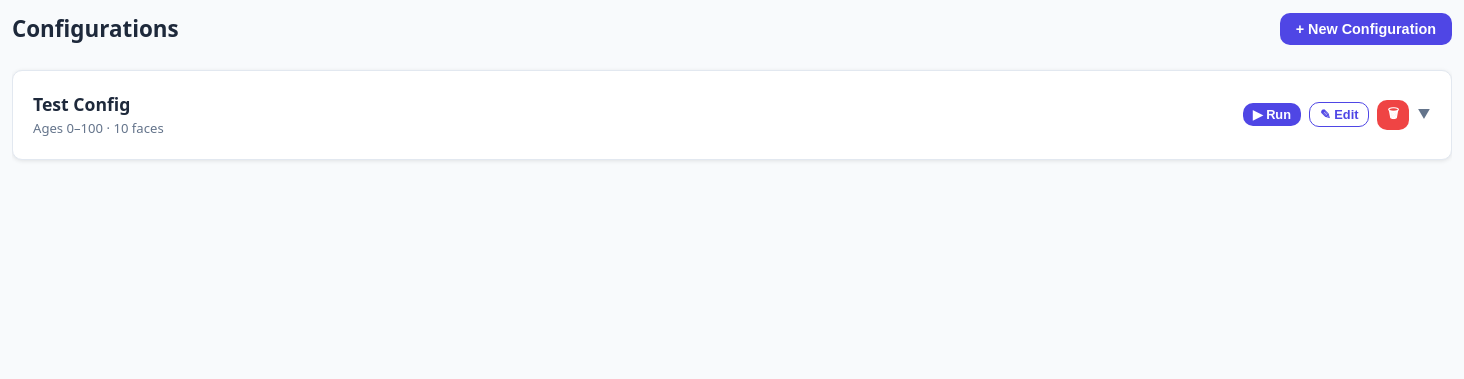
Test: ConfigList expand/collapse › shows image count in detail panel
Click the text "Test Config": click(82, 104) [33,92,130,116]
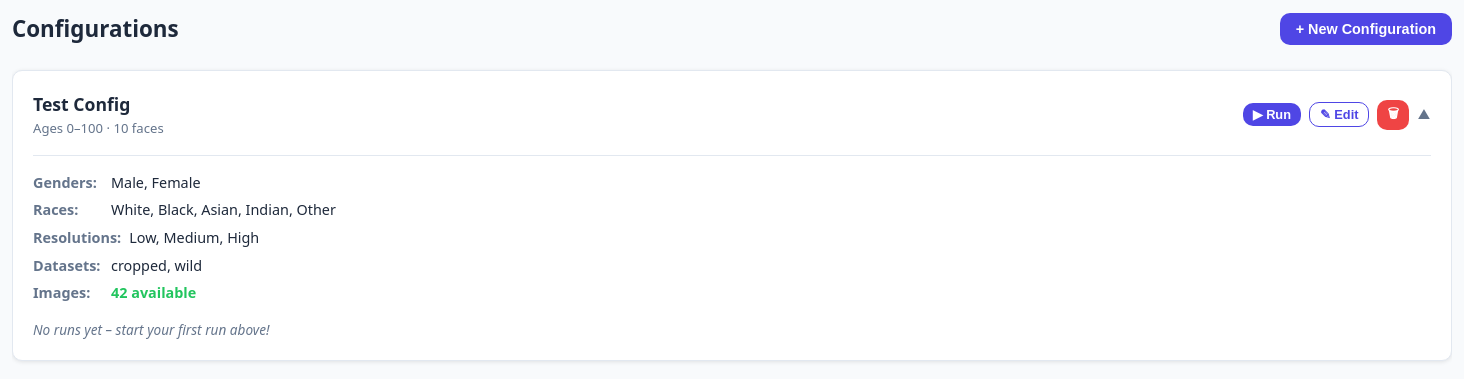
Check: the text "Images:" is shown, box [33,283,90,302]
Check: the text "42 available" is shown, box [111,283,196,302]
